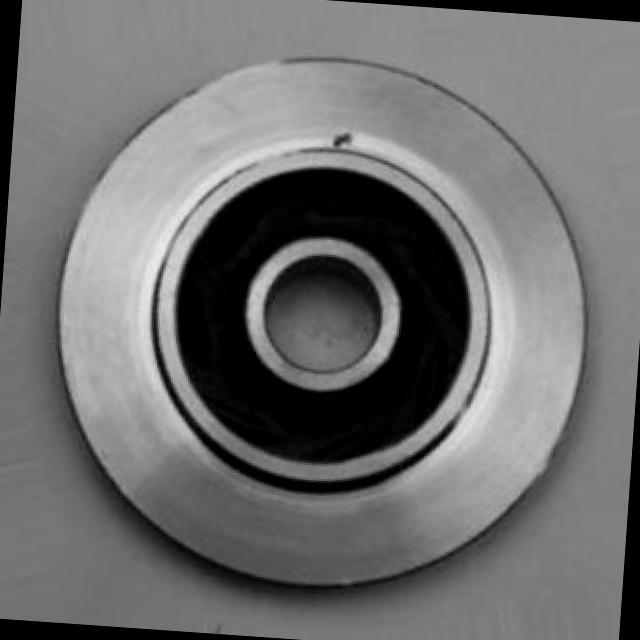Defect: (330, 127, 357, 152)
